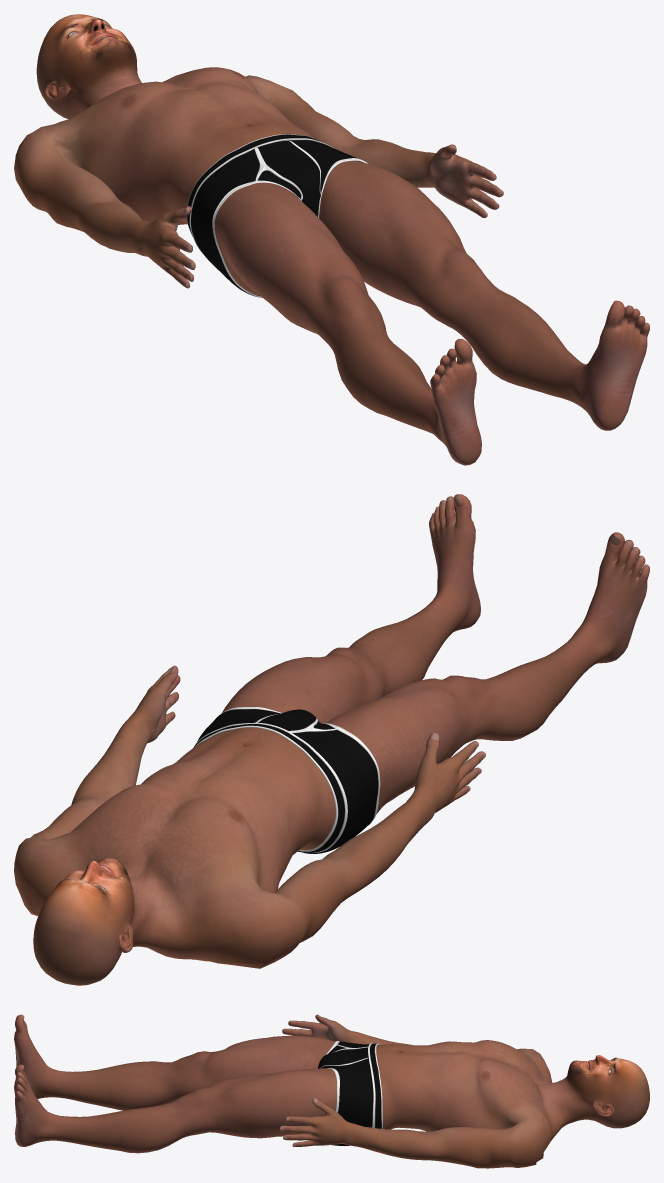
File: personplain1.fbx
3 renders of one model, top to bottom at view 1: azimuth 30°, elevation 25°; view 2: azimuth 150°, elevation 25°; view 3: azimuth 270°, elevation 25°, orthographic. The views are drawn at different scales.
Parts seen in each view (by area): view 1: Genesis8Male.Shape, Briefs_9793.Shape; view 2: Genesis8Male.Shape, Briefs_9793.Shape; view 3: Genesis8Male.Shape, Briefs_9793.Shape.
Boxes of the visible parts, bbox=[...] form: Genesis8Male.Shape: bbox=[14, 14, 649, 465]; Briefs_9793.Shape: bbox=[187, 134, 367, 297]; Genesis8Male.Shape: bbox=[14, 494, 649, 985]; Briefs_9793.Shape: bbox=[193, 707, 380, 853]; Genesis8Male.Shape: bbox=[14, 1014, 649, 1168]; Briefs_9793.Shape: bbox=[318, 1041, 382, 1145].
Bounding box in the file's own units: 6708 × 3179 × 18028.
